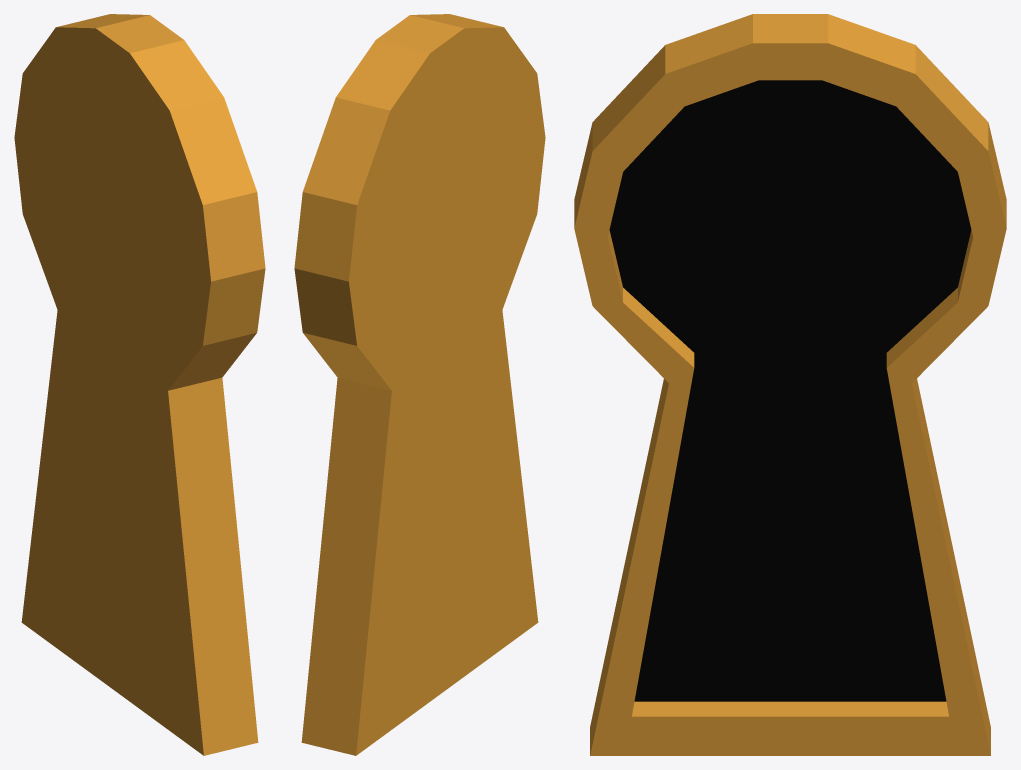
File: KeyHole.fbx
The picture shows the model from 3 angles, left to right: view 1: azimuth 30°, elevation 25°; view 2: azimuth 150°, elevation 25°; view 3: azimuth 270°, elevation 25°; orthographic projection. The views are drawn at different scales.
Visible parts, largest first — view 1: Cube; view 2: Cube; view 3: Cube.
Boxes of the visible parts, x1,y1,x2,y2 form: Cube: (14, 14, 265, 755); Cube: (294, 14, 545, 755); Cube: (574, 14, 1006, 755).
Bounding box in the file's own units: 8.73 × 99.41 × 54.65.
